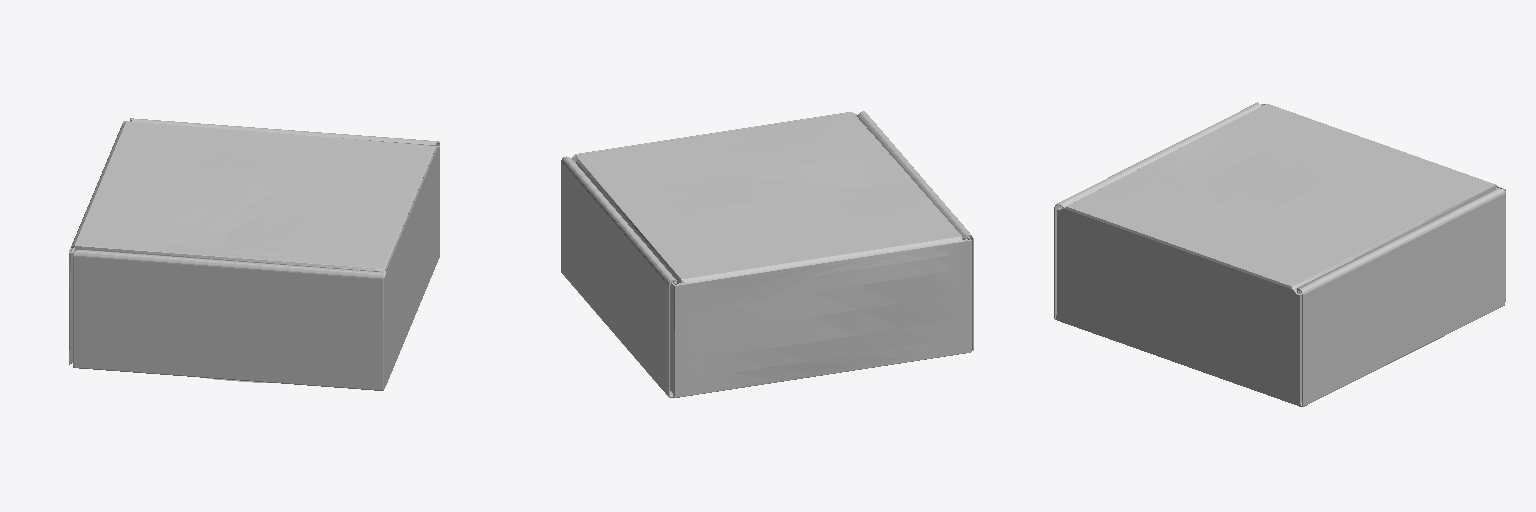
The model's file is sample_05.obj.
3 views of the same model, side by side, from view 1: azimuth 30°, elevation 25°; view 2: azimuth 150°, elevation 25°; view 3: azimuth 270°, elevation 25° (orthographic).
Parts seen in each view (by area): view 1: 2604forUV001; view 2: 2604forUV001; view 3: 2604forUV001.
Part boxes in pixels (x1,y1,x2,y2): 2604forUV001: (69, 118, 439, 390); 2604forUV001: (561, 111, 973, 397); 2604forUV001: (1054, 102, 1505, 406).
Size of the model in its own units: 148 by 44.48 by 148.